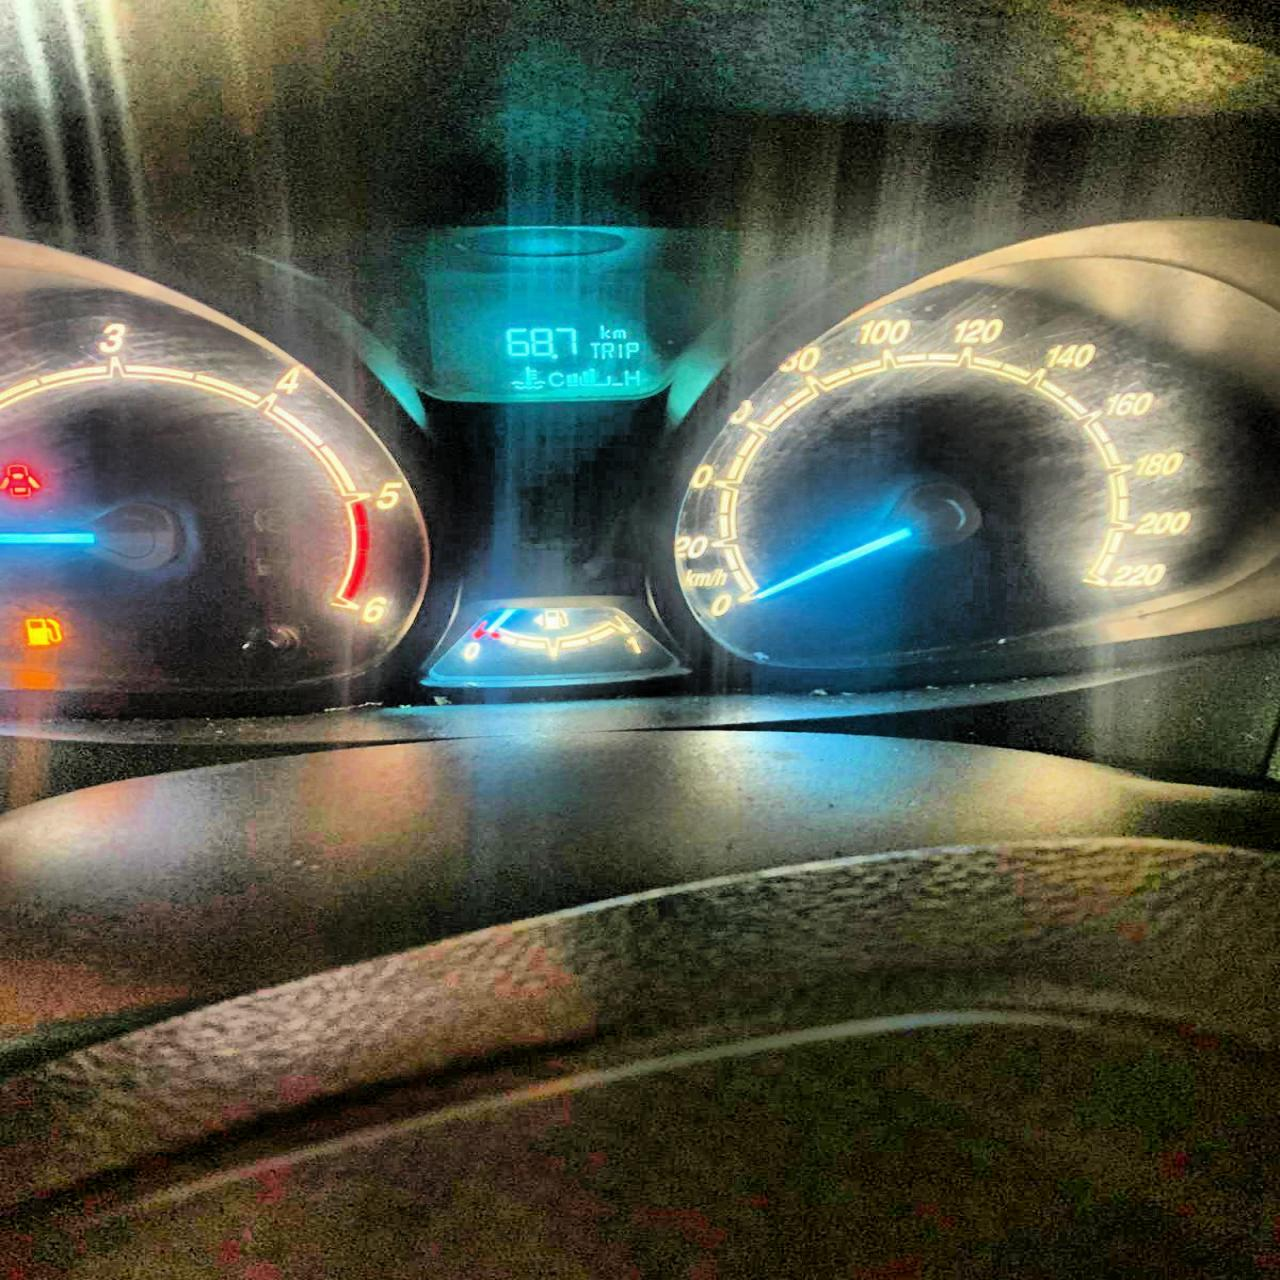-: (550, 353, 558, 359)
6: (503, 324, 530, 357)
7: (554, 326, 580, 356)
8: (530, 325, 552, 356)
X: (622, 368, 642, 386), (544, 372, 565, 386), (623, 340, 639, 358), (600, 341, 614, 358), (596, 322, 610, 338), (588, 340, 600, 358), (611, 327, 626, 340), (615, 340, 623, 359)
odometer: (406, 294, 679, 406)
